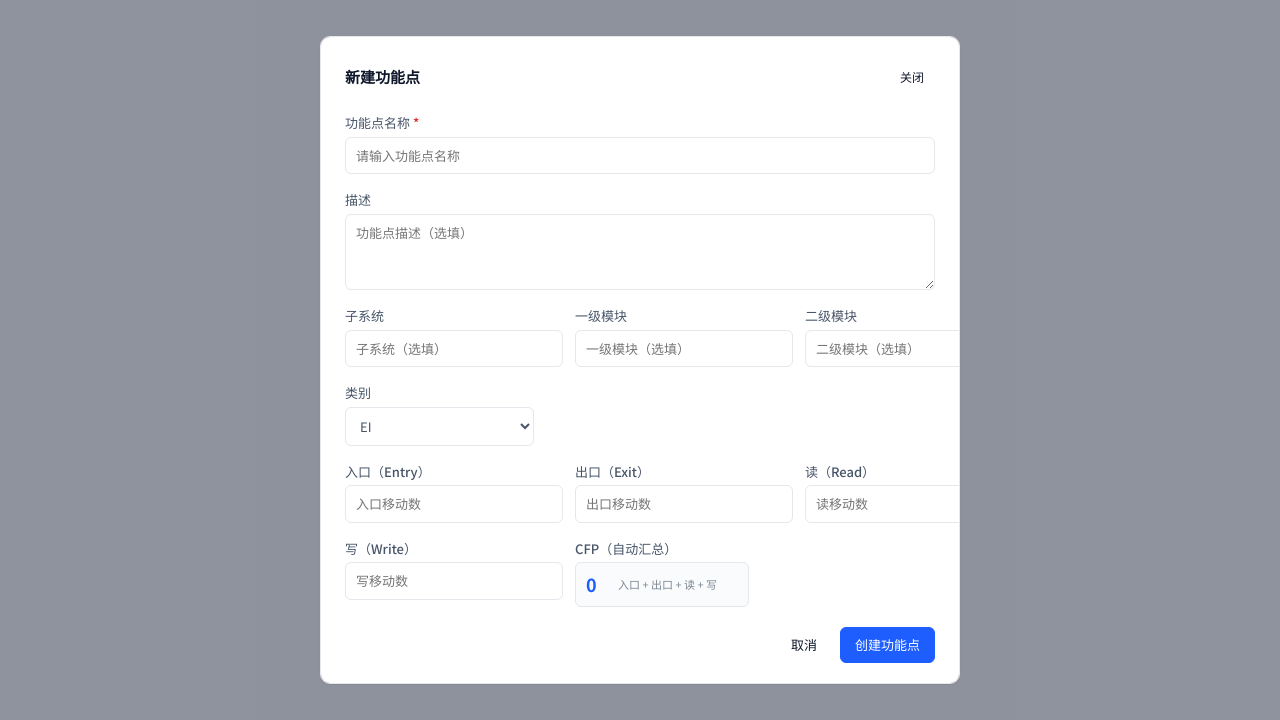
Test: FpFormModal — cosmic 方法 › 实时显示 CFP = 入口 + 出口 + 读 + 写
Type "2" into the number field with test id "input-cosmic-entry".
click(454, 504); type("2")  # box [345, 485, 563, 522]
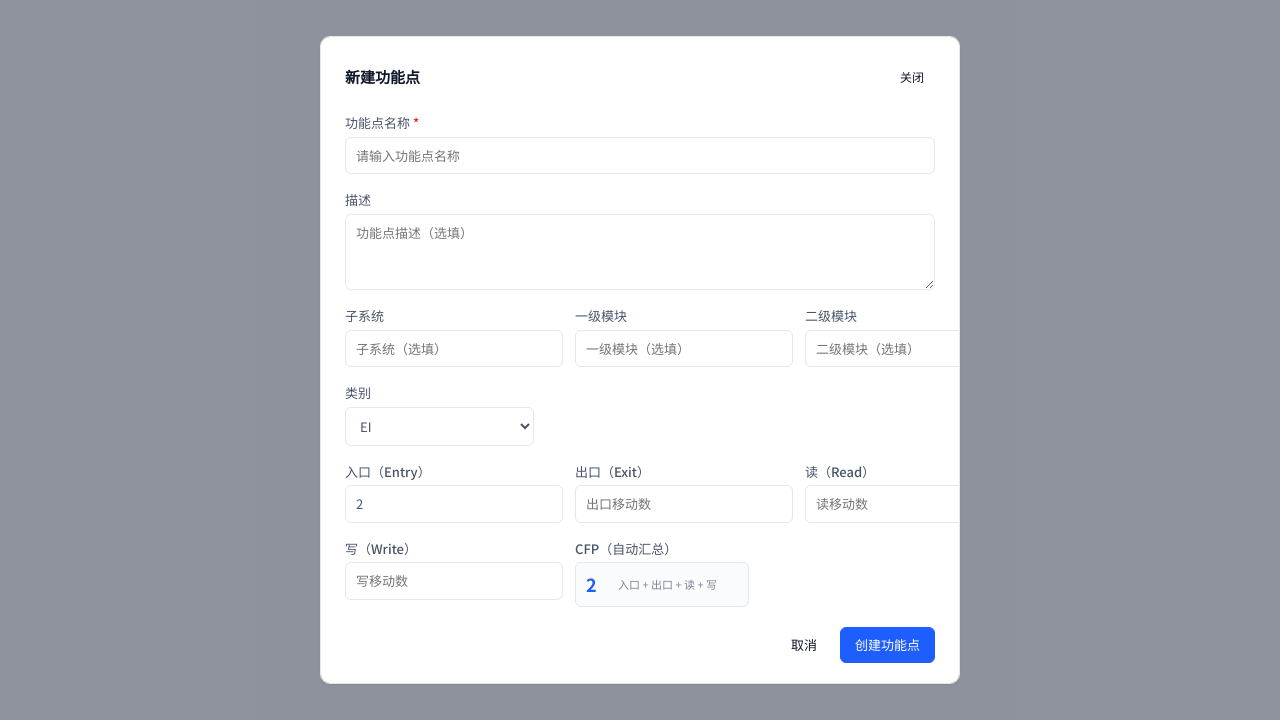
Type "1" into the number field with test id "input-cosmic-exit".
click(684, 504); type("1")  # box [575, 485, 793, 522]
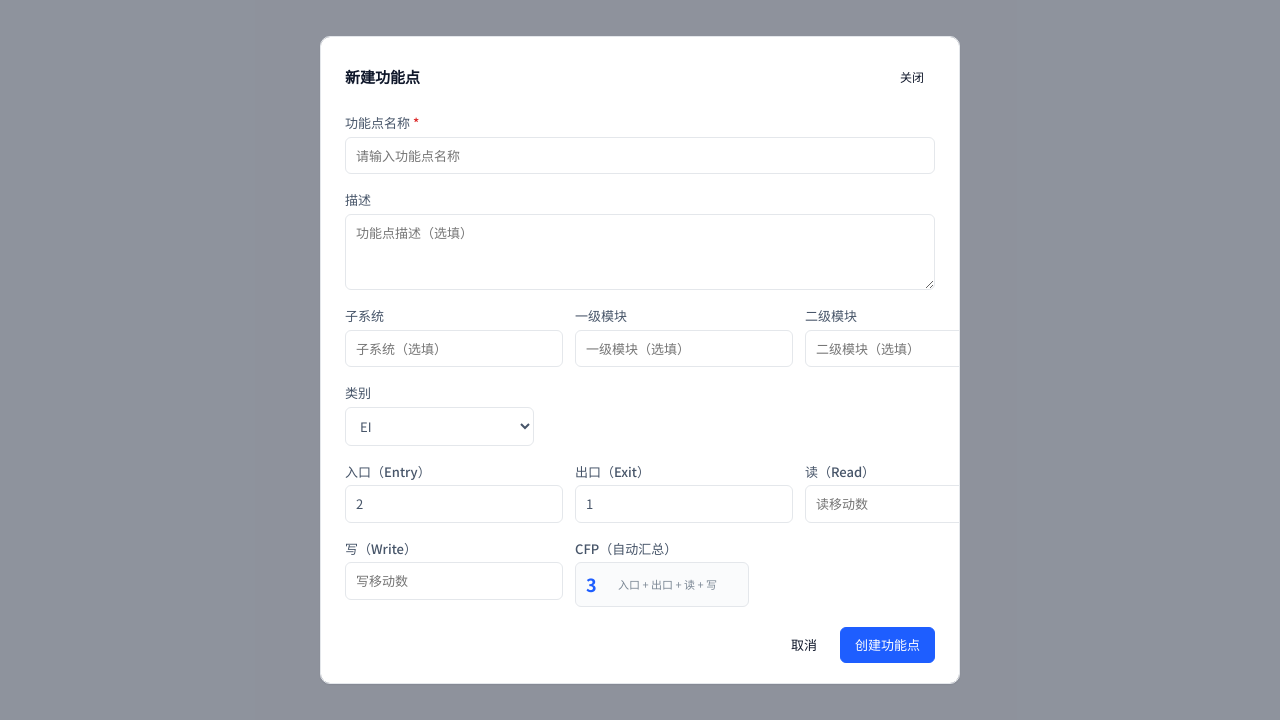
Type "3" into the number field with test id "input-cosmic-read".
click(914, 504); type("3")  # box [805, 485, 1023, 522]
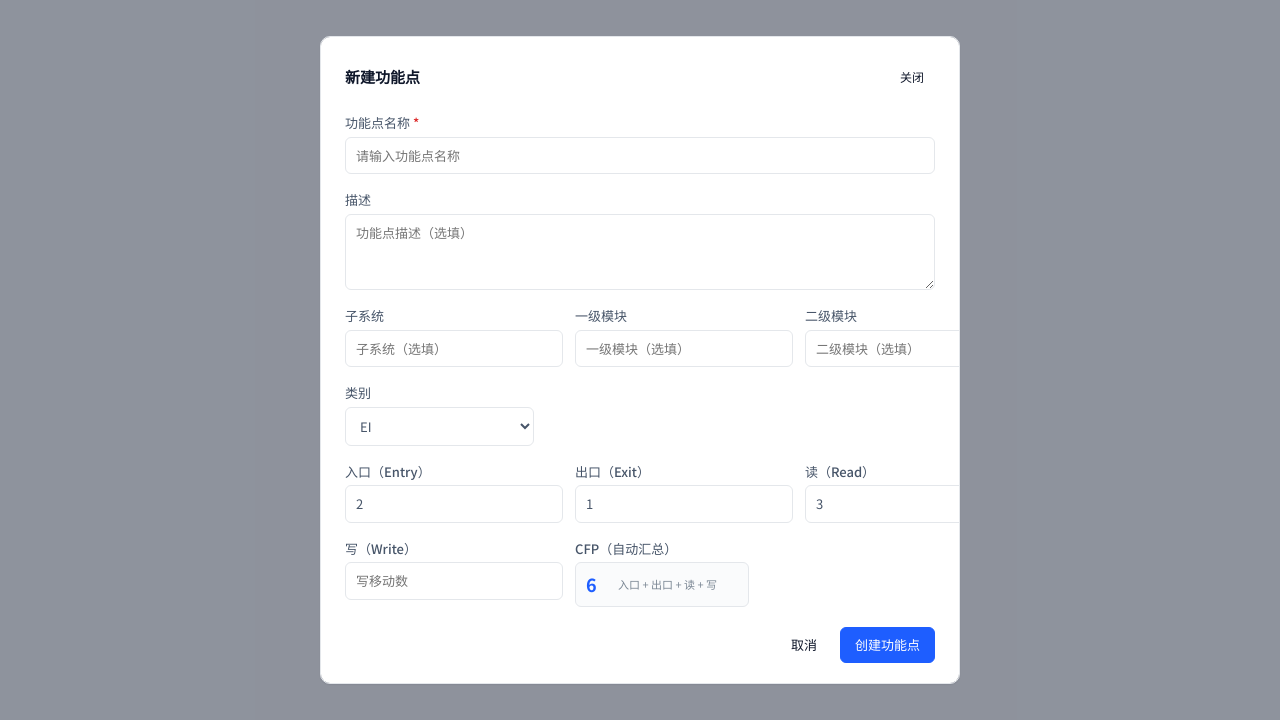
Type "2" into the number field with test id "input-cosmic-write".
click(454, 581); type("2")  # box [345, 562, 563, 600]
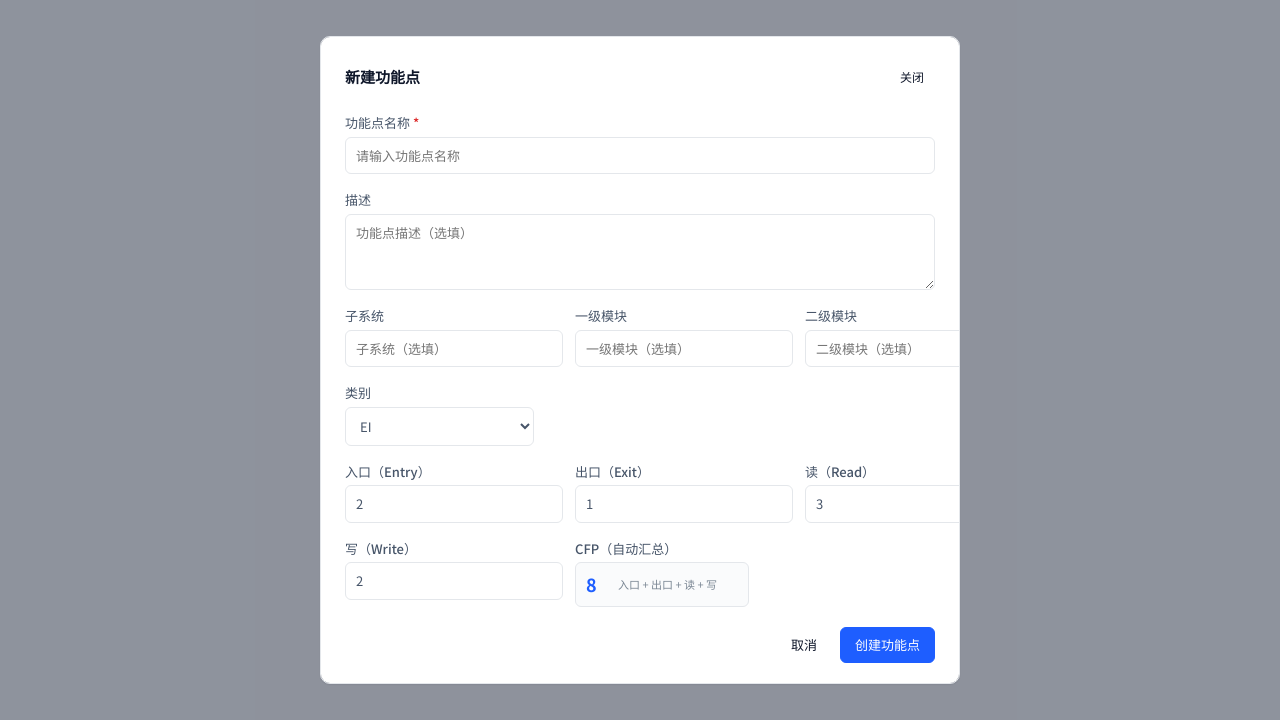
Result: the text with test id "cfp-total" reads "8" at [586, 571, 597, 597]
